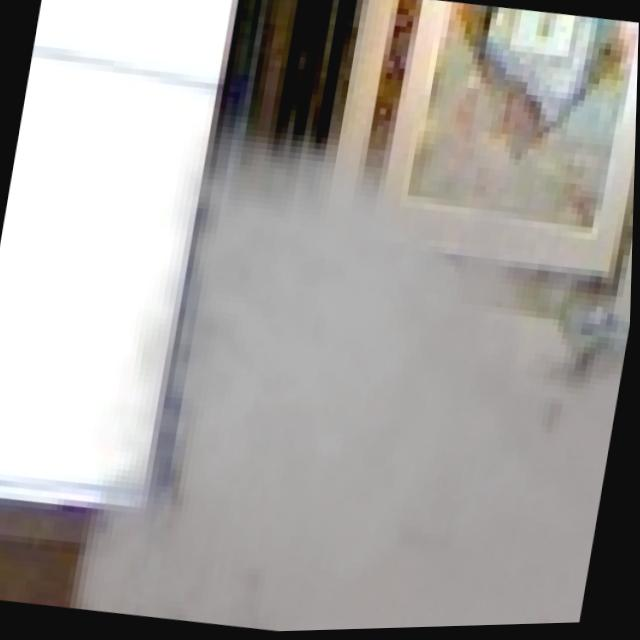smoke: (42, 0, 640, 639)
